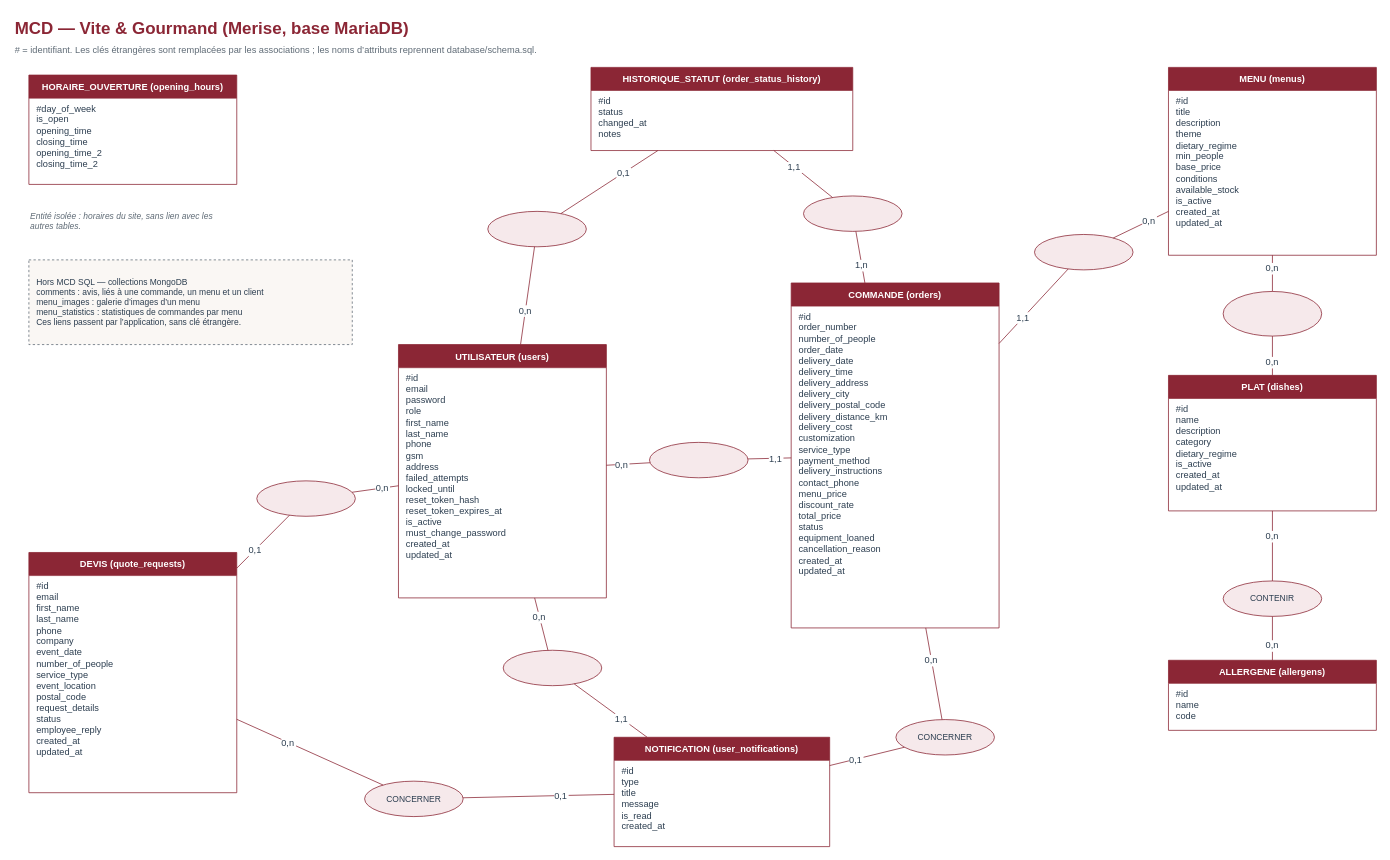
This 1390x860 diagram has some shape labels left out. The shapes that lost their labels are listed below. From the top down, each one's centre as x and y in pixels, then its label:
At pixel 536 229: "MODIFIER".
At pixel 852 213: "ETRE TRACÉE".
At pixel 1083 252: "PORTER SUR".
At pixel 1272 313: "COMPOSER position".
At pixel 698 460: "PASSER".
At pixel 305 498: "DEMANDER".
At pixel 552 667: "RECEVOIR".
